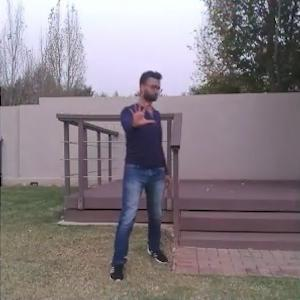follow_hand: (125, 95, 157, 130)
